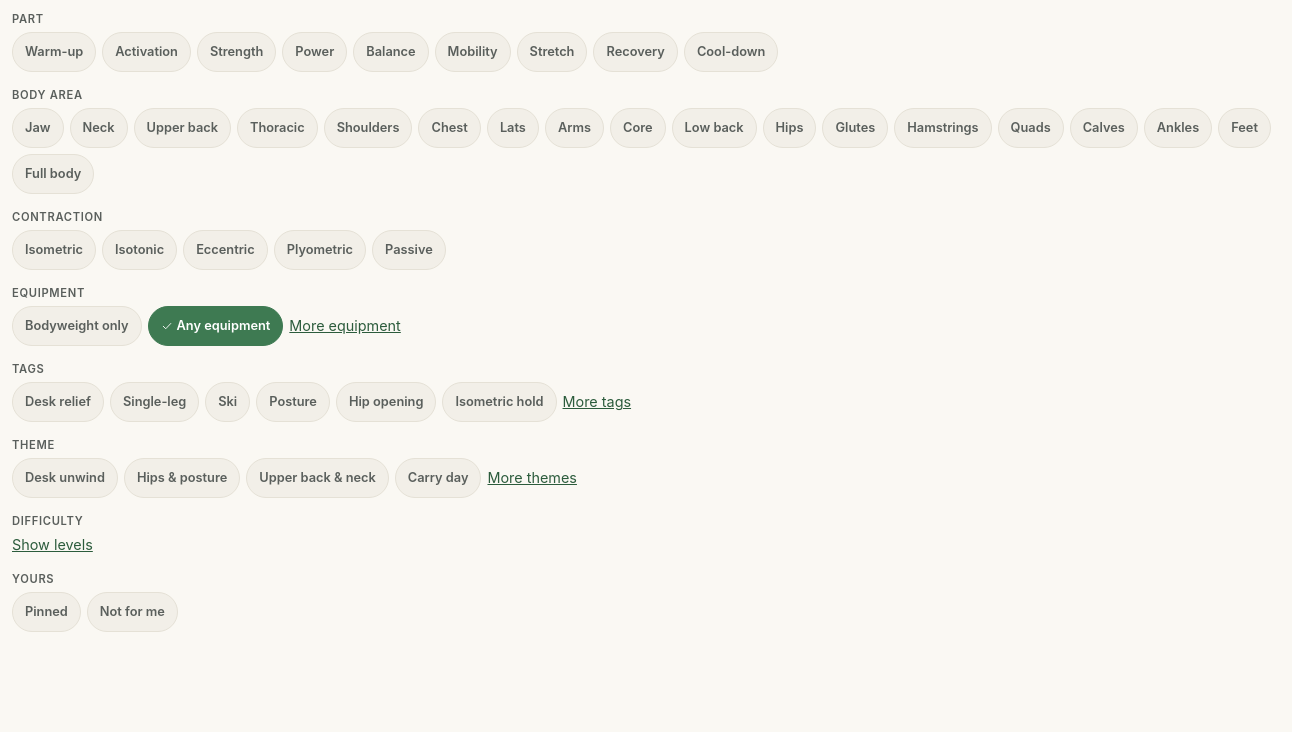
Test: the long facets keep their first row; the rest is one tap down › Tags, Theme and Difficulty each show a first row and a More that names what it opens
What coordinates should you click on to do the following:
click the button "More tags"
I would click on:
 (597, 402)
Its box is x1=562 y1=391 x2=631 y2=413.
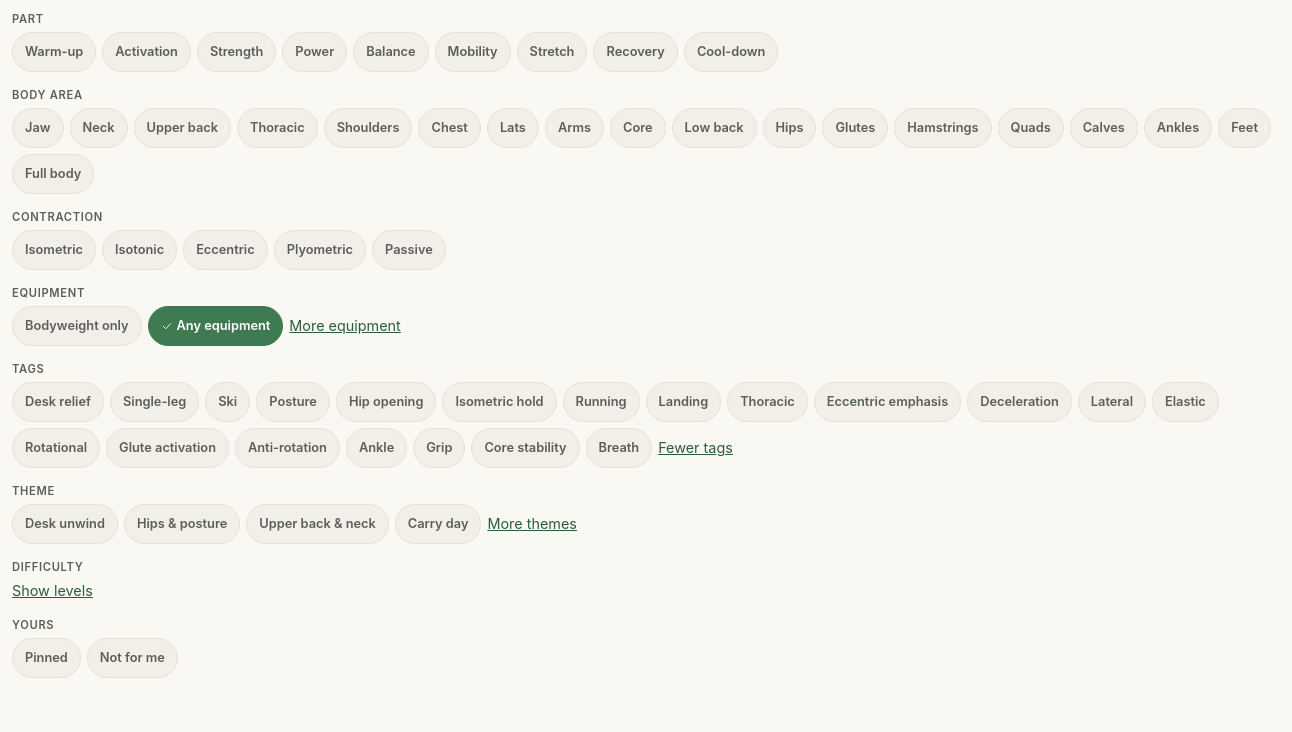
Expected: the button "Fewer tags" is expanded, x1=658 y1=437 x2=733 y2=459
What coordinates should you click on to do the following:
click the button "More themes"
I would click on:
 (532, 524)
Its box is x1=488 y1=513 x2=577 y2=535.
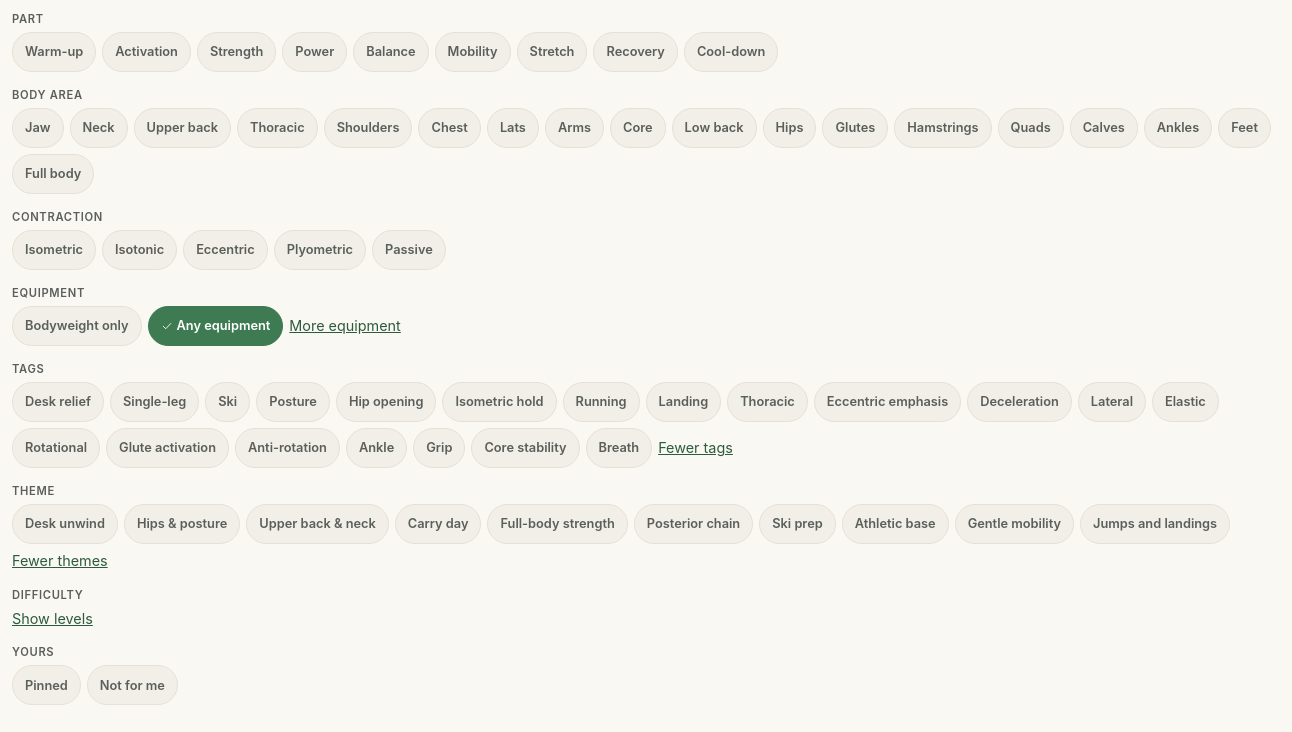
Expected: the button "Fewer themes" is expanded, x1=12 y1=550 x2=108 y2=572
What coordinates should you click on to do the following:
click the button "Show levels"
I would click on:
 (52, 618)
Its box is x1=12 y1=608 x2=93 y2=629.
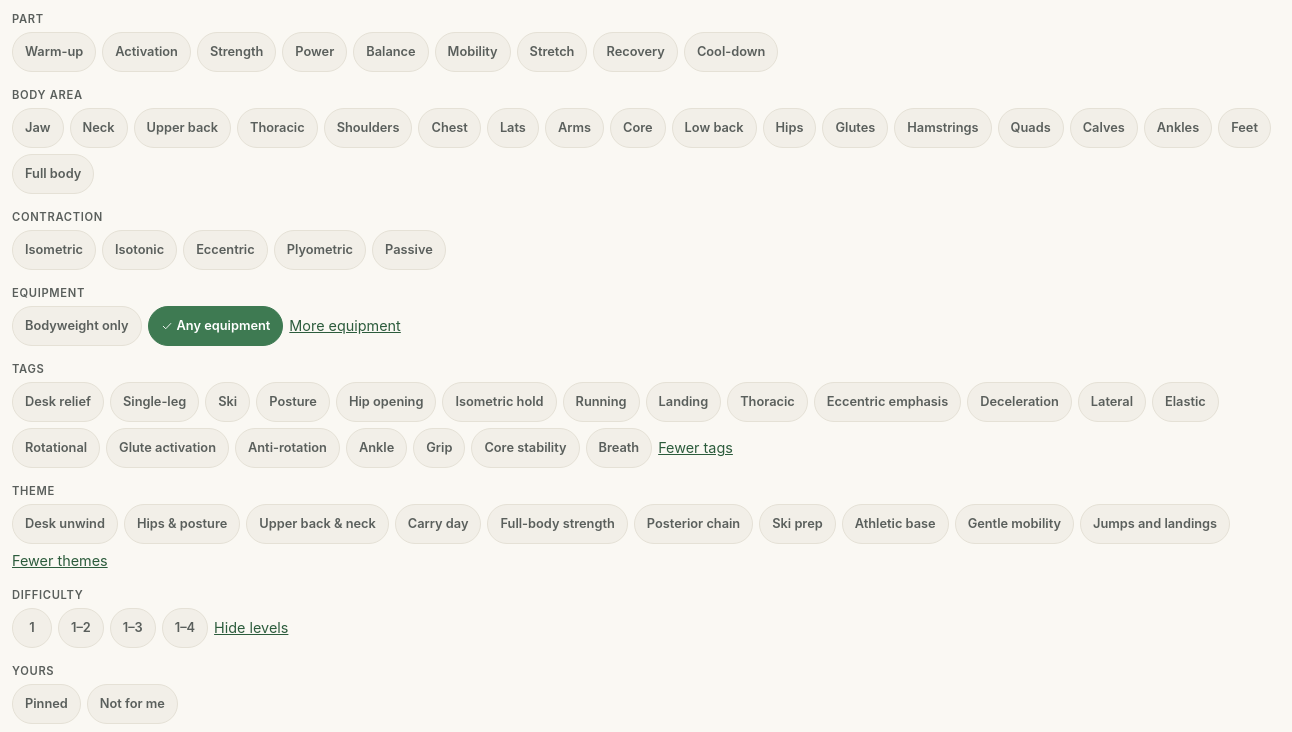
Expected: the button "Hide levels" is expanded, x1=214 y1=617 x2=288 y2=638
